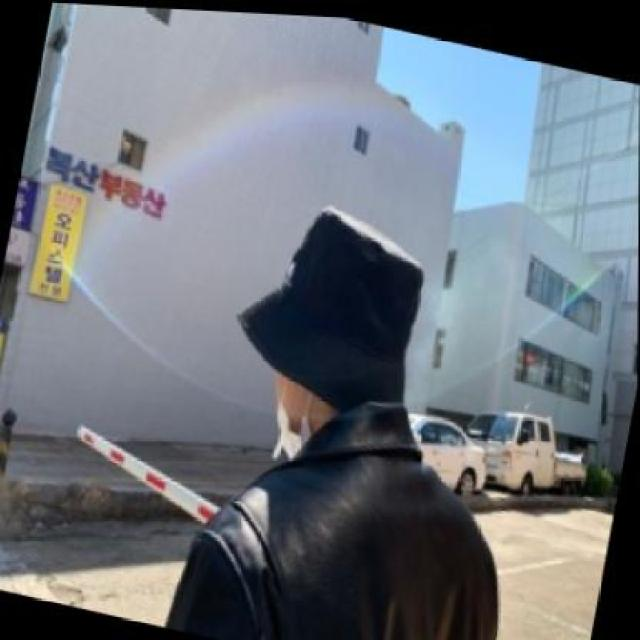hat: (220, 178, 442, 427)
